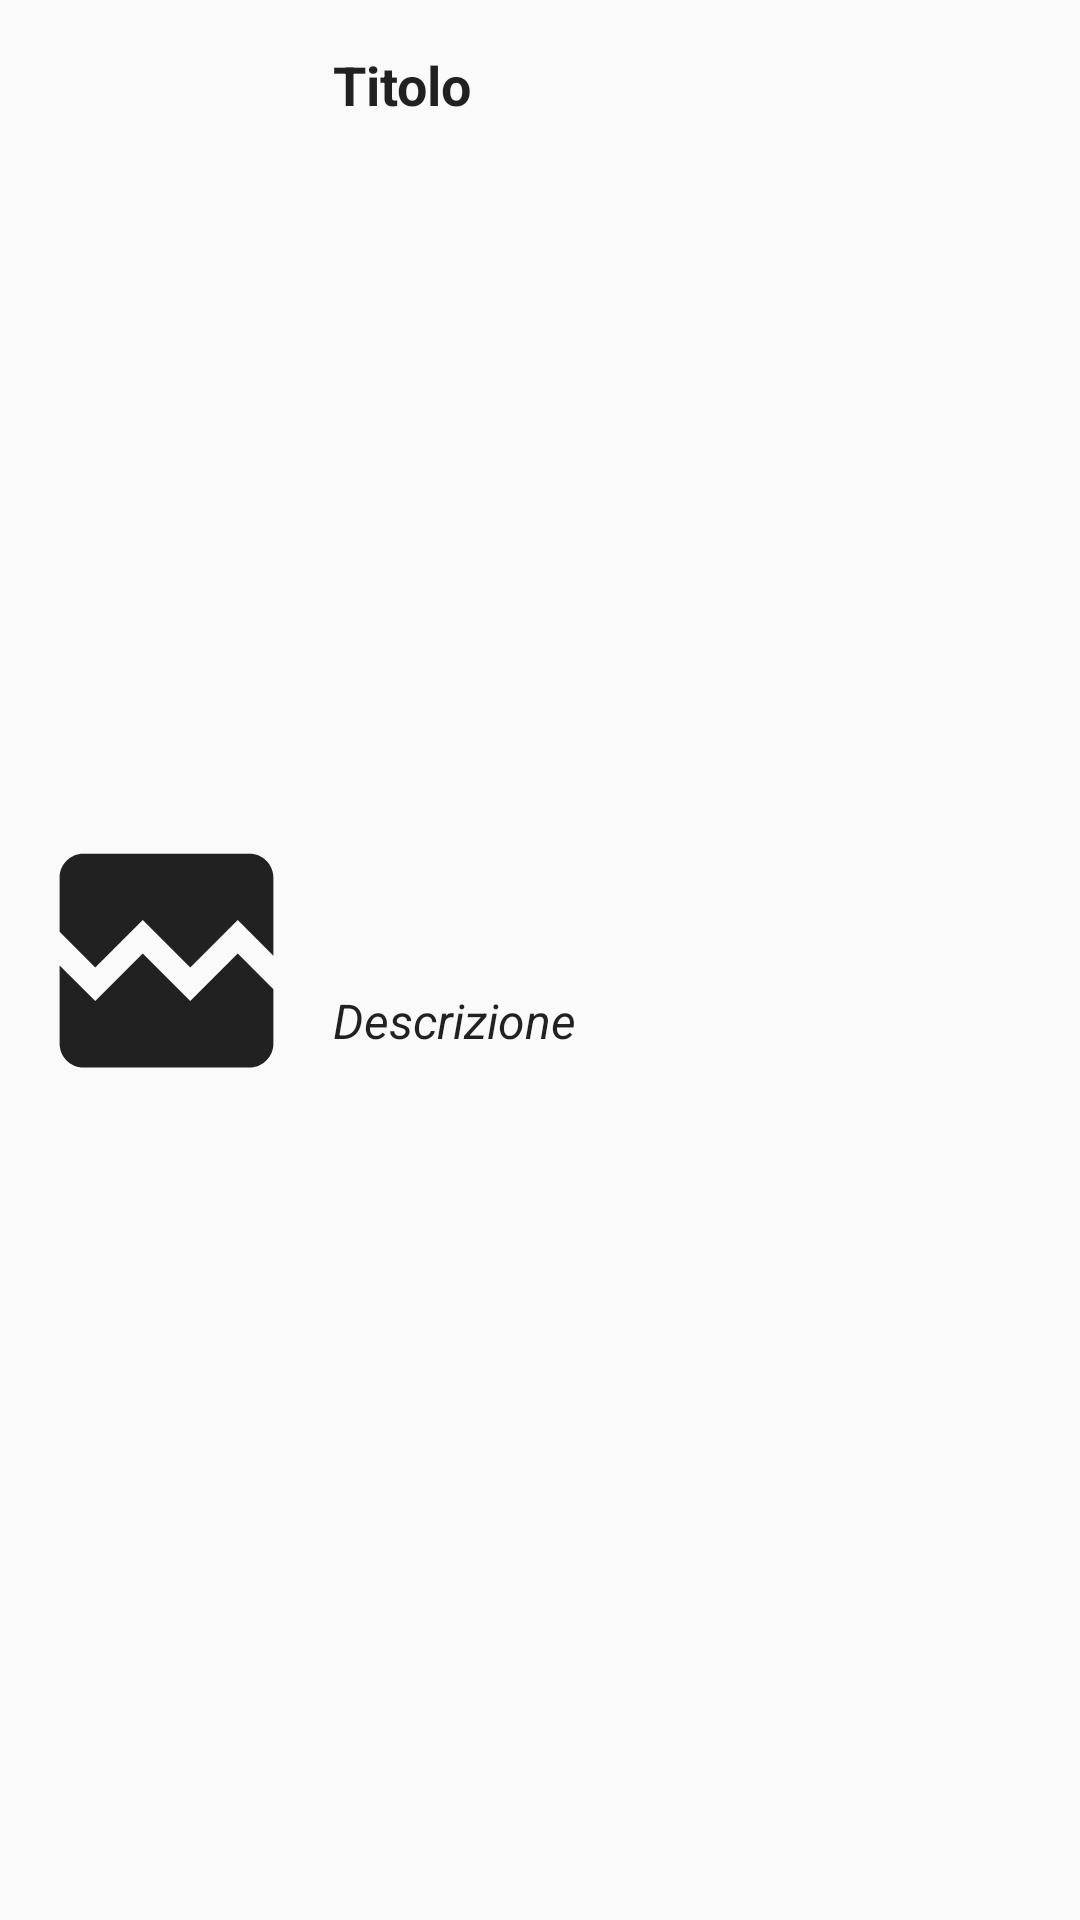

Screen size 1080x1920. Icon name, then its center in pixels as [x,y]:
broken: [166,960]
